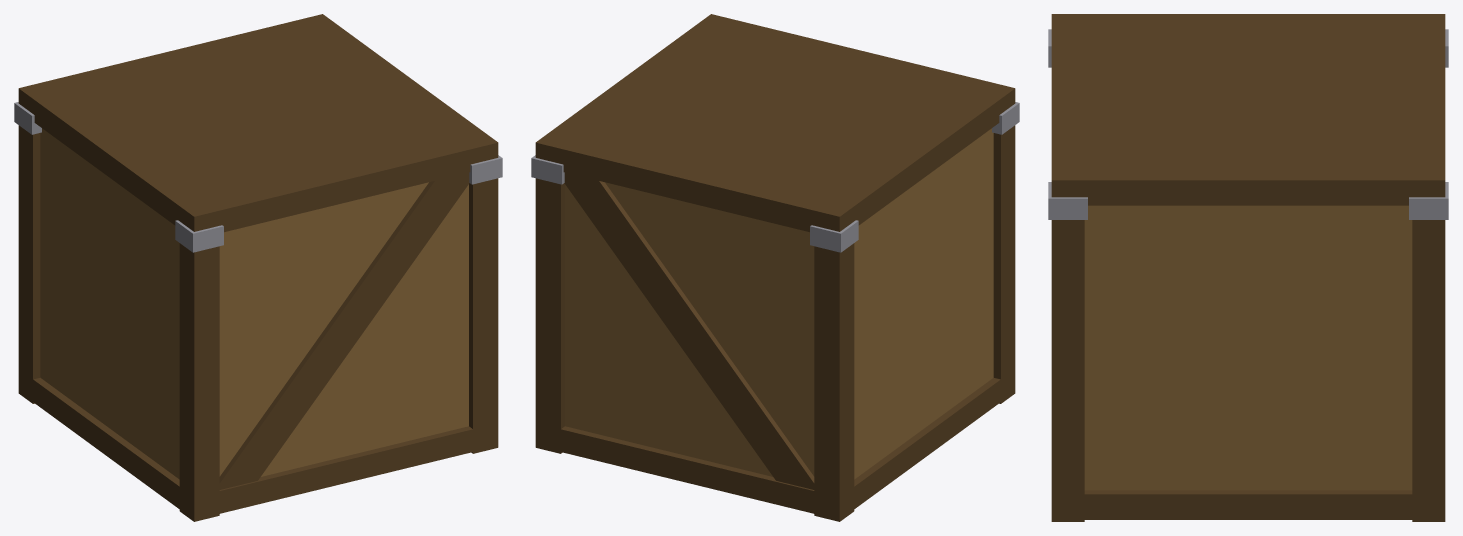
Rendered from crate.glb.
3 views of the same model, side by side, from view 1: azimuth 30°, elevation 25°; view 2: azimuth 150°, elevation 25°; view 3: azimuth 270°, elevation 25° (orthographic). The views are drawn at different scales.
Visible parts, largest first — view 1: Crate_Body; view 2: Crate_Body; view 3: Crate_Body.
Boxes of the visible parts, x1,y1,x2,y2 form: Crate_Body: (14,14,502,521); Crate_Body: (531,14,1019,521); Crate_Body: (1048,14,1448,521).
Size of what is drawn, in the model's own units: 0.855 by 0.805 by 0.855.
